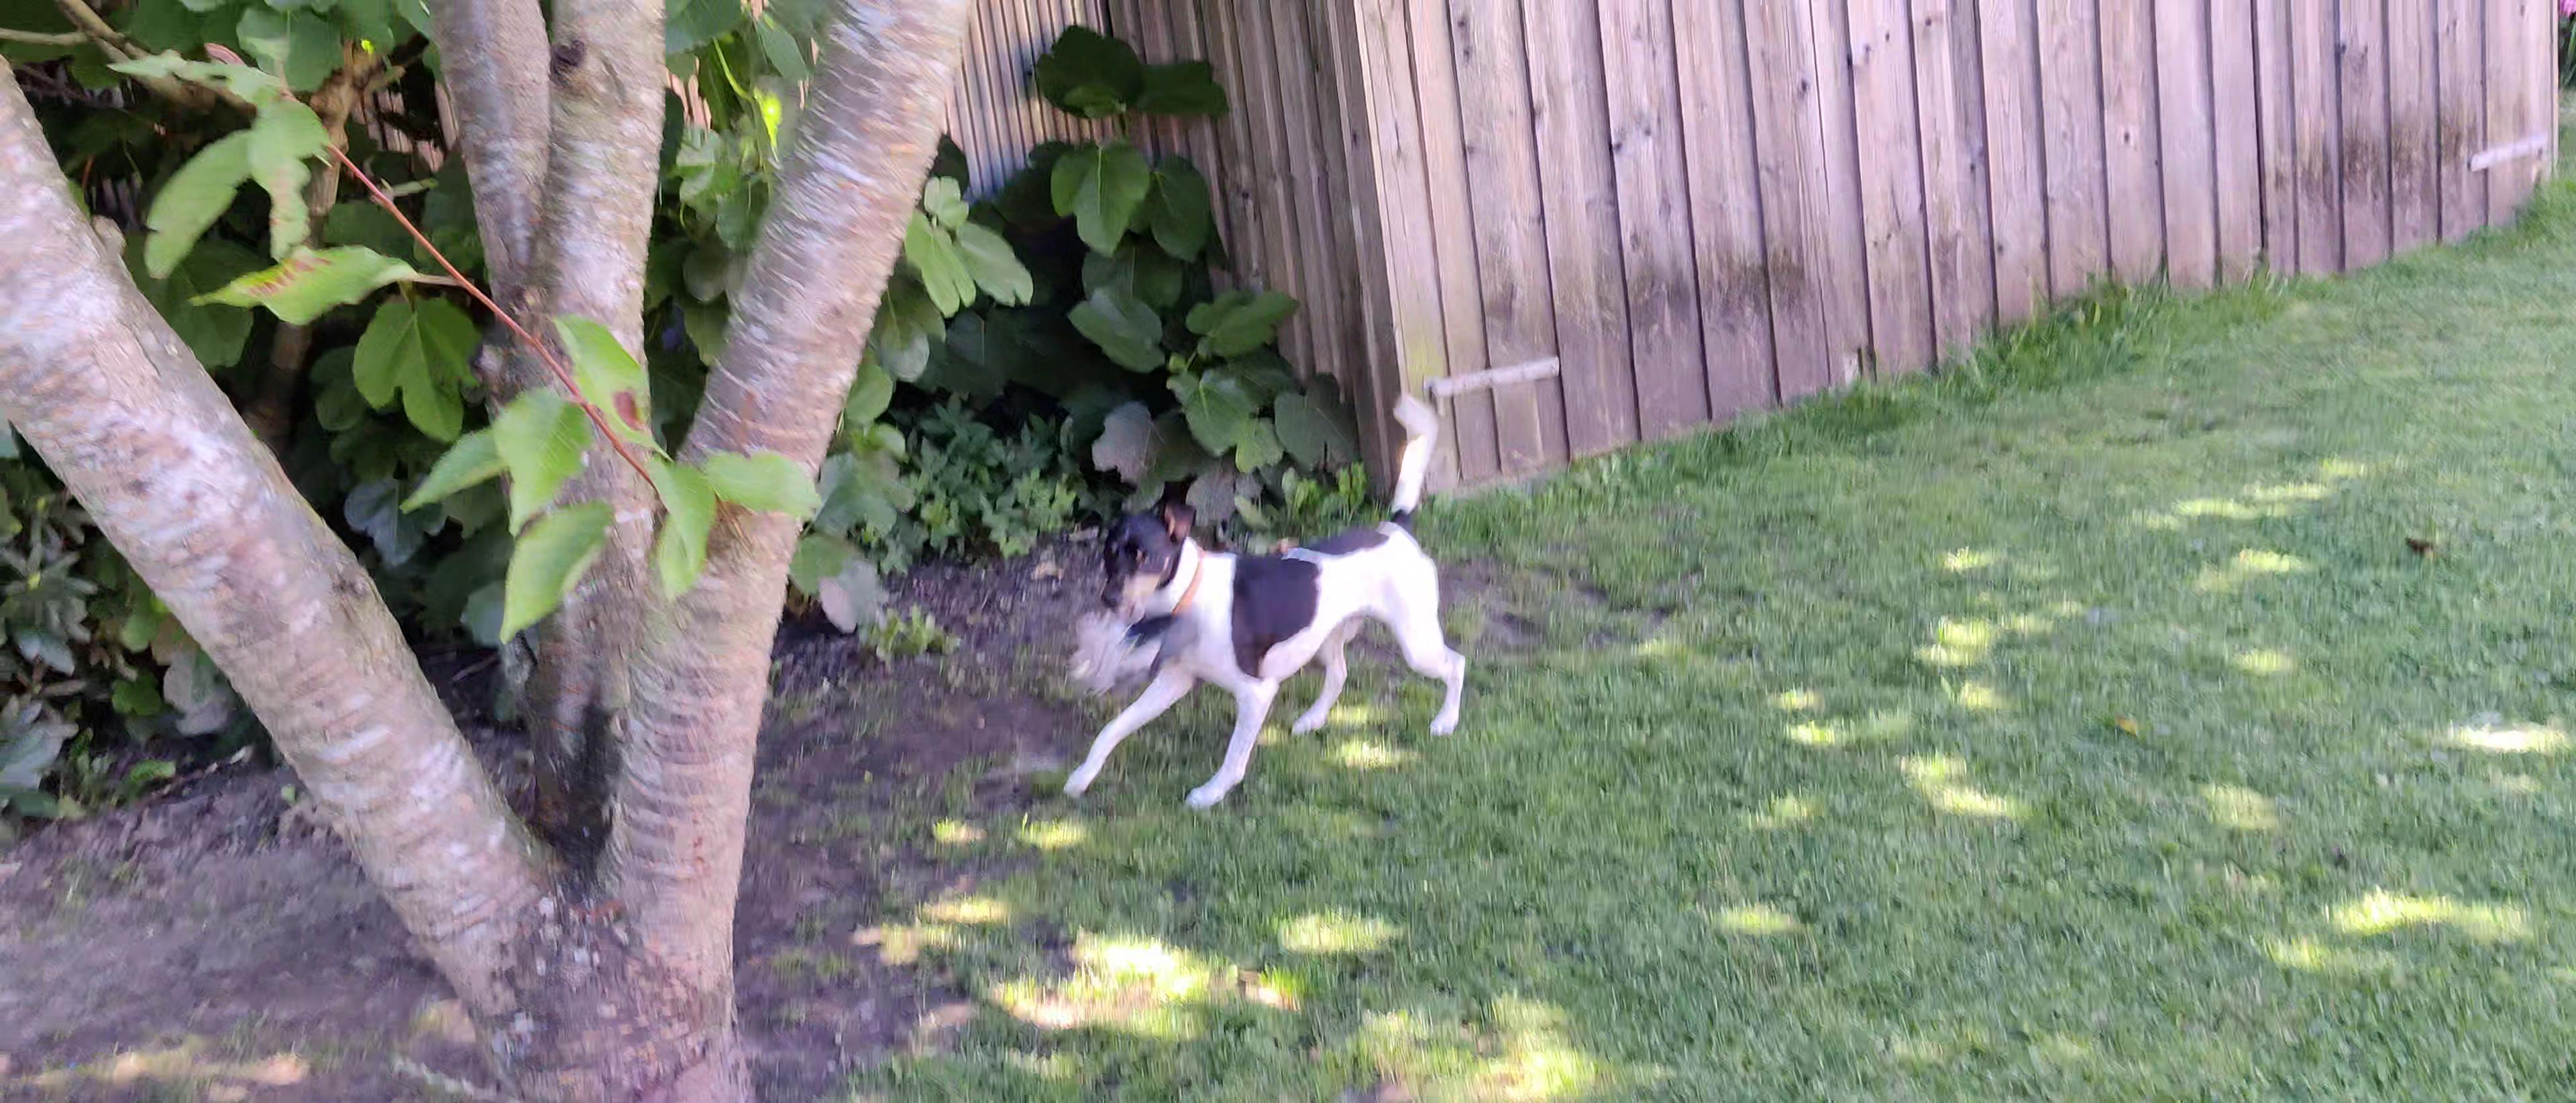Dog: (1056, 388, 1467, 814)
